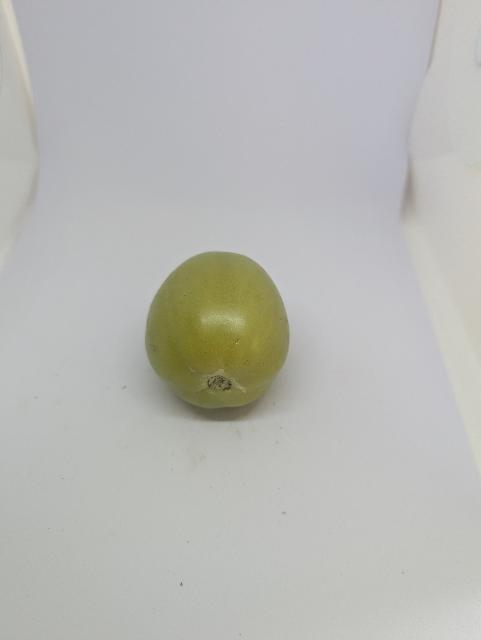green: (122, 239, 302, 424)
